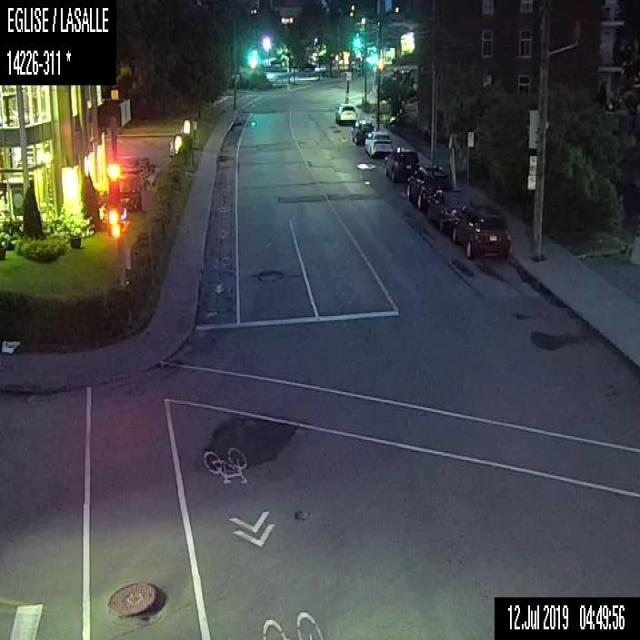vehicle: (450, 201, 513, 260), (423, 187, 468, 232), (405, 166, 449, 211), (383, 144, 419, 183), (363, 129, 393, 156), (350, 120, 373, 144), (334, 101, 357, 124)
